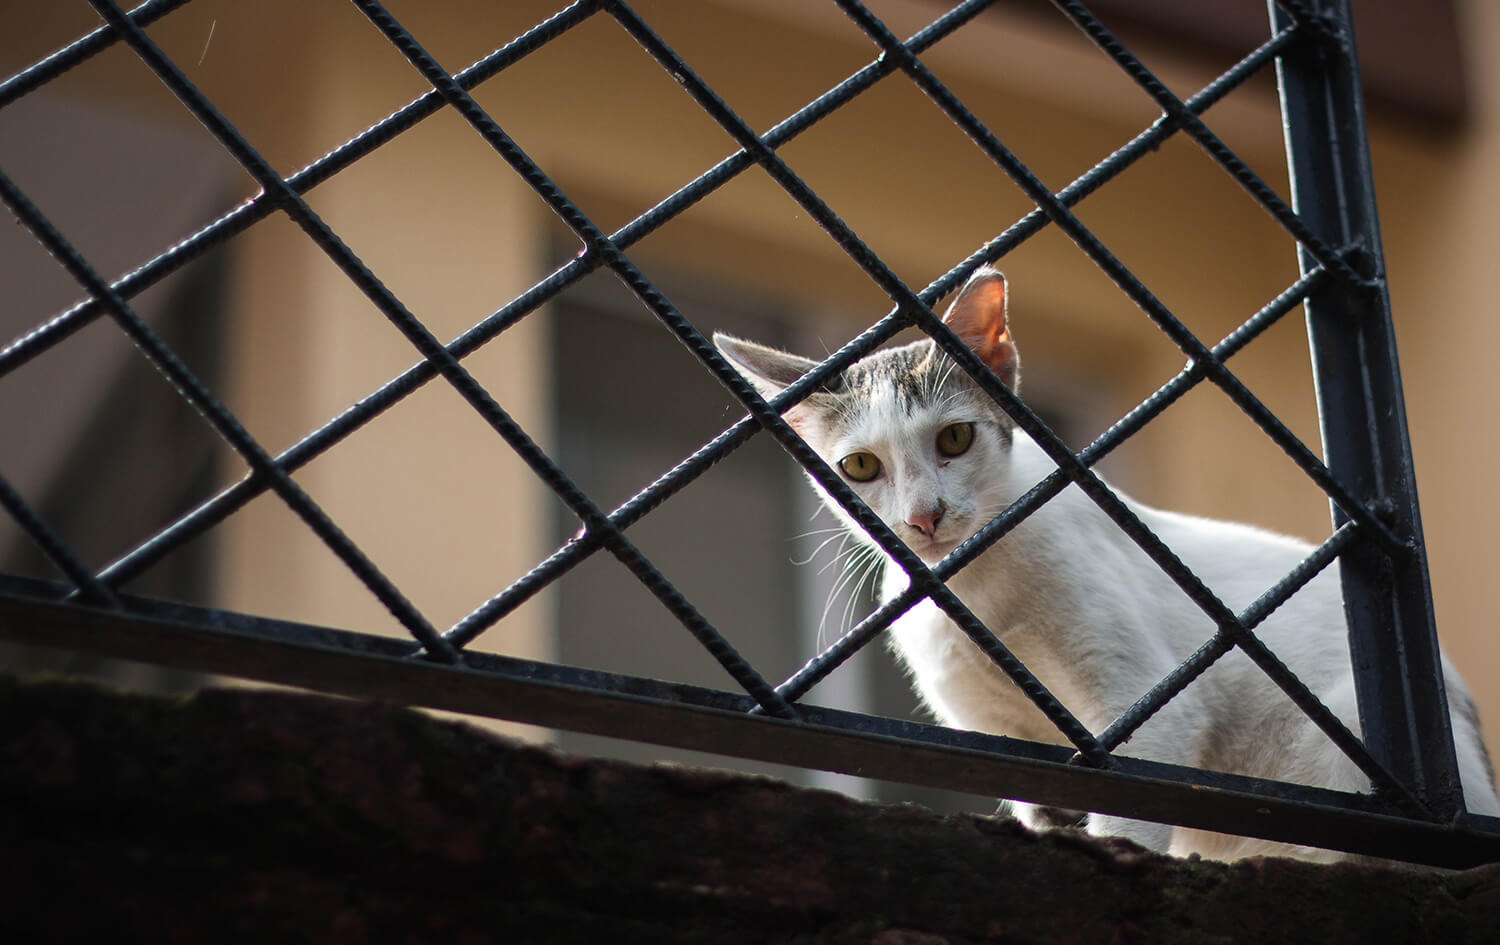cat: (688, 246, 1500, 858)
